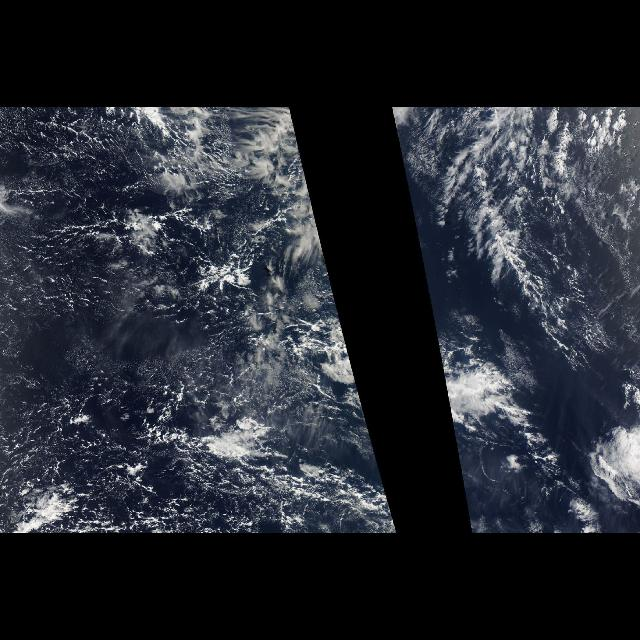Fish: (432, 114, 610, 532), (11, 413, 387, 533)
Gravel: (3, 388, 394, 522)
Sugar: (1, 218, 127, 328)
